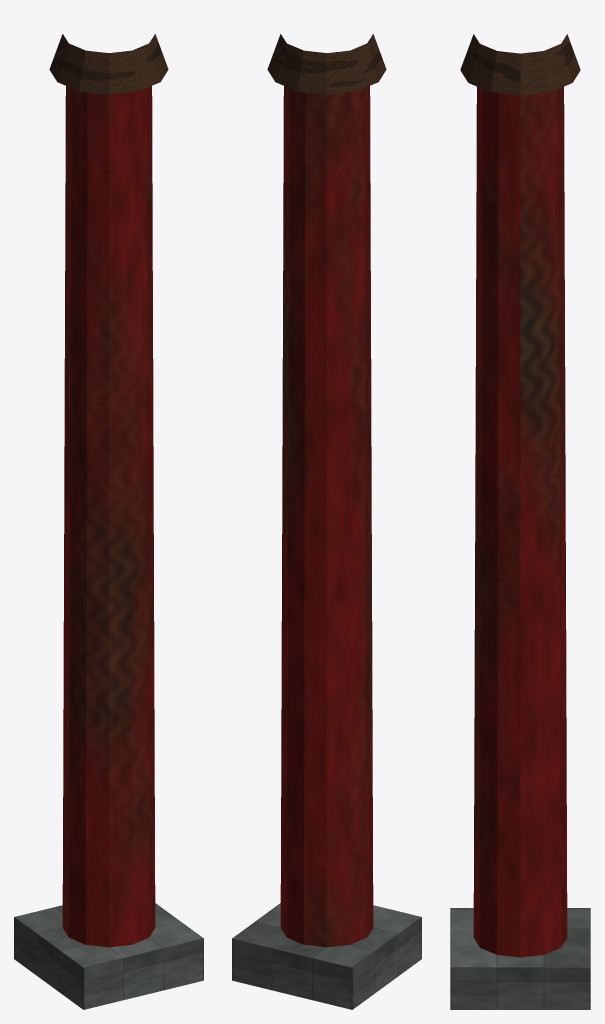
Rendered from pillar.glb.
3 views of the same model, side by side, from view 1: azimuth 30°, elevation 25°; view 2: azimuth 150°, elevation 25°; view 3: azimuth 270°, elevation 25° (orthographic).
Visible parts, largest first — view 1: Shaft, Base, Cap; view 2: Shaft, Base, Cap; view 3: Shaft, Base, Cap.
Boxes of the visible parts, x1,y1,x2,y2 form: Shaft: [62, 86, 155, 947]; Base: [14, 903, 203, 1009]; Cap: [49, 34, 168, 94]; Shaft: [280, 86, 373, 947]; Base: [232, 903, 421, 1009]; Cap: [267, 34, 386, 94]; Shaft: [473, 86, 567, 957]; Base: [450, 908, 590, 1009]; Cap: [460, 34, 580, 95].
Size of what is drawn, in the model's own units: 0.42 by 3.12 by 0.42.
3 materials, 3 textured.
